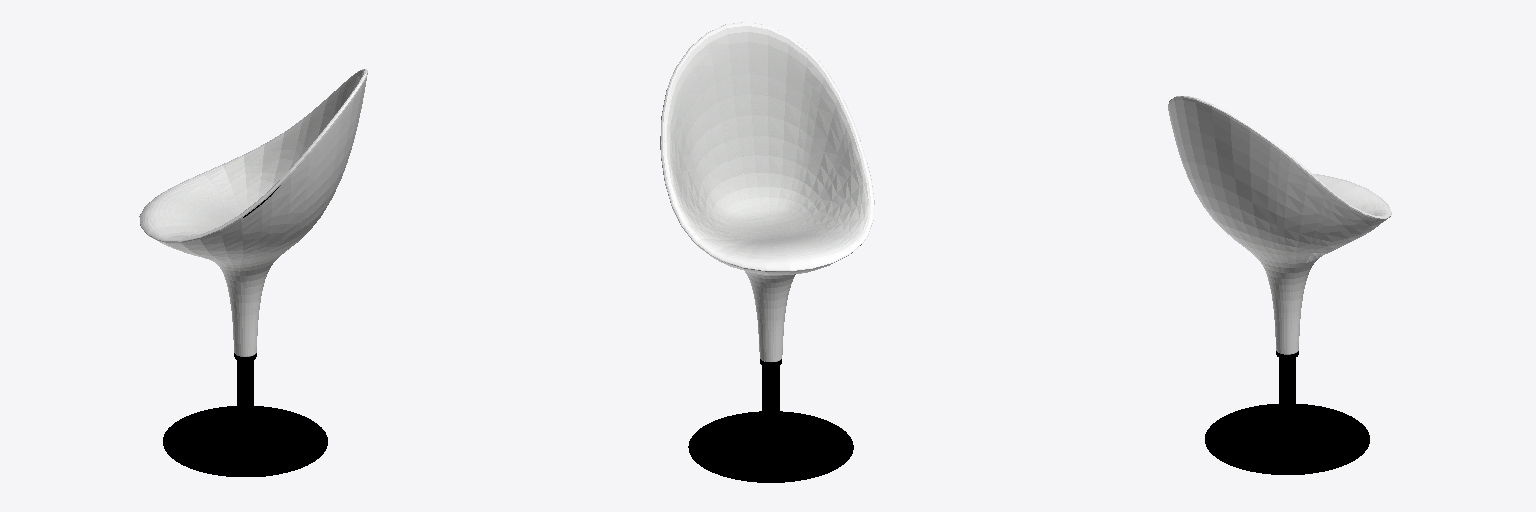
3 renders of one model, left to right at view 1: azimuth 30°, elevation 25°; view 2: azimuth 150°, elevation 25°; view 3: azimuth 270°, elevation 25°, orthographic.
Parts seen in each view (by area): view 1: Chair001; view 2: Chair001; view 3: Chair001.
Boxes of the visible parts, x1=… form: Chair001: x1=139, y1=69, x2=367, y2=476; Chair001: x1=660, y1=22, x2=874, y2=482; Chair001: x1=1168, y1=96, x2=1391, y2=474.
Size of the model in its own units: 0.4932 by 0.9132 by 0.4918.
Materials: 2 (1 with a texture image).